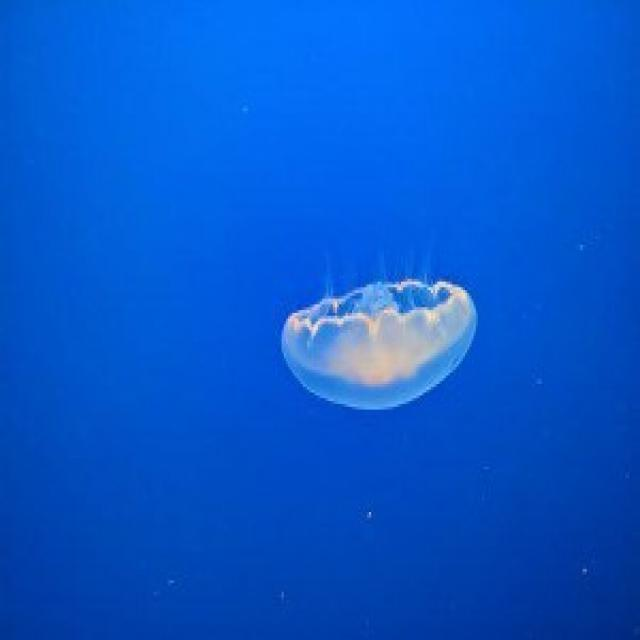Jellyfish: (277, 252, 487, 432)
